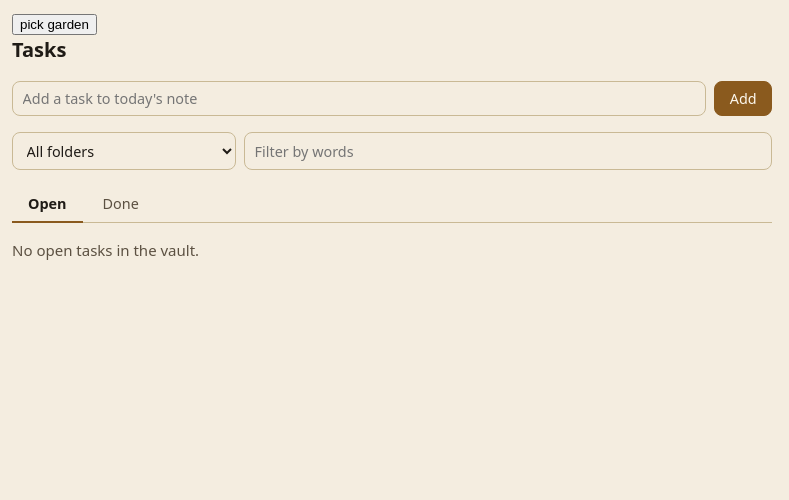
Test: TasksPage Done tab › lists the last 14 days by done date, newest first
Click the tab "Done".
click(121, 204)  # box [86,186,155,223]
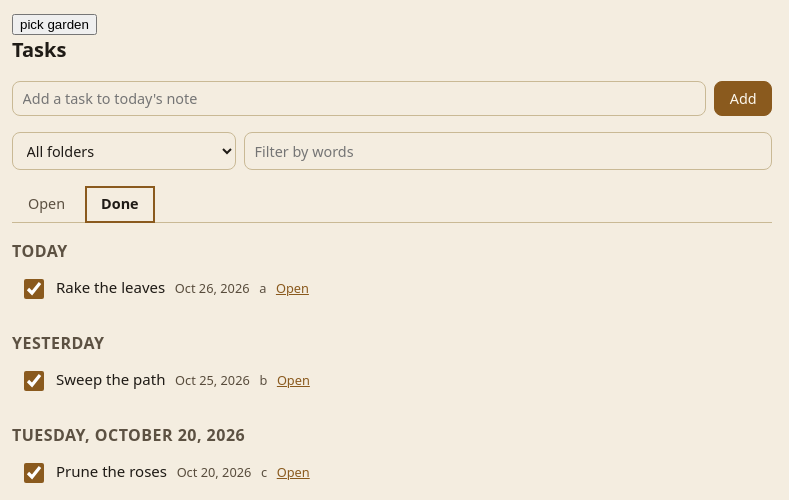
Now the text "Rake the leaves" is shown, box [56,277,165,297]
Now the checkbox labelled "Rake the leaves" is checked, box [24,279,44,299]
Now the text "a" is shown, box [259,279,266,298]
